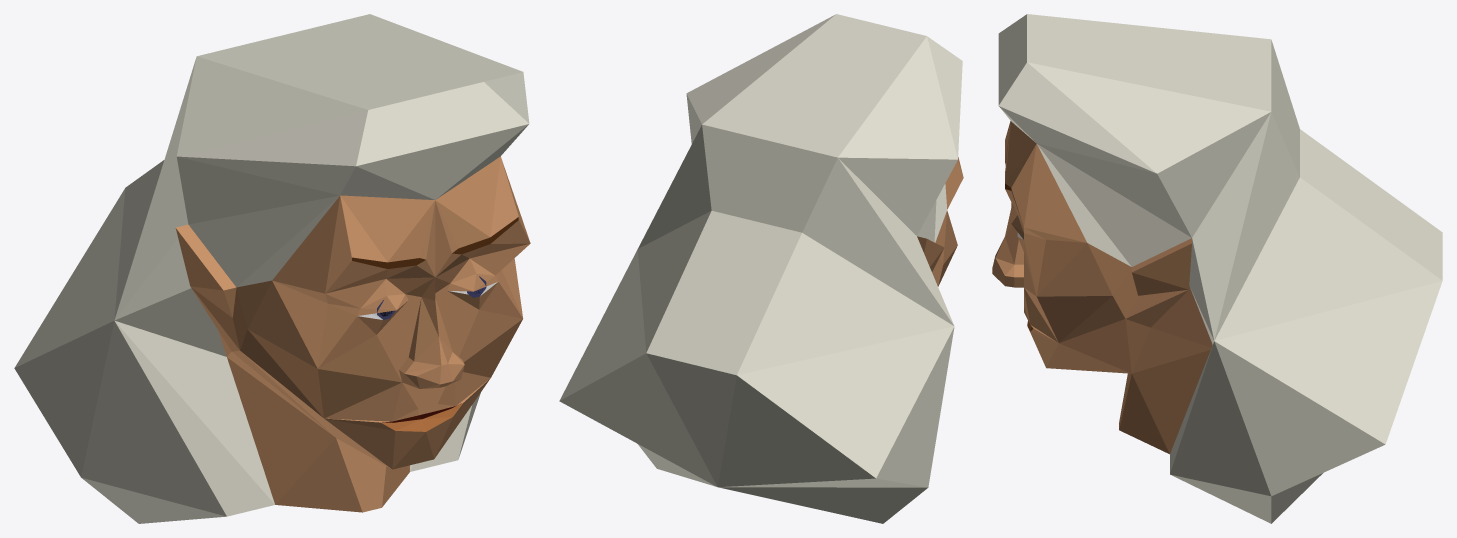
File: model_11_npc_head.obj
The picture shows the model from 3 angles, left to right: view 1: azimuth 30°, elevation 25°; view 2: azimuth 150°, elevation 25°; view 3: azimuth 270°, elevation 25°; orthographic projection. The views are drawn at different scales.
Visible parts, largest first — view 1: 11; view 2: 11; view 3: 11.
Boxes of the visible parts, left/top/right/bottom form: 11: left=14, top=14, right=530, bottom=523; 11: left=559, top=14, right=963, bottom=523; 11: left=992, top=14, right=1442, bottom=523.
Bounding box in the file's own units: 126 × 148 × 142.
